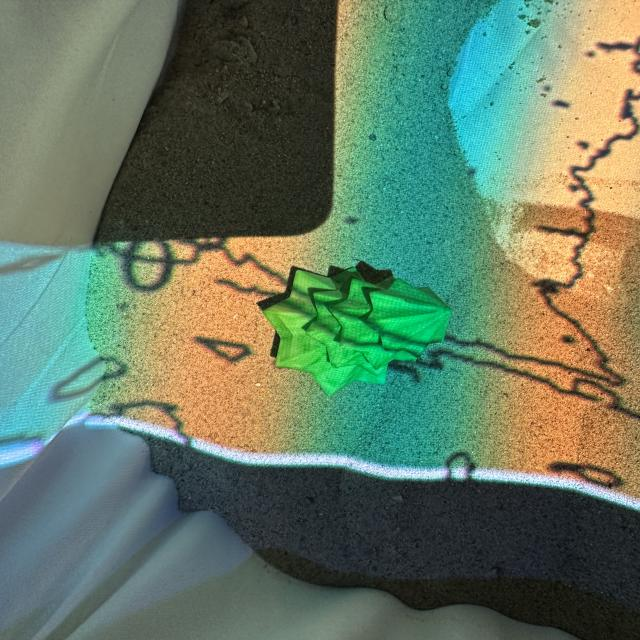tree: (260, 259, 453, 396)
